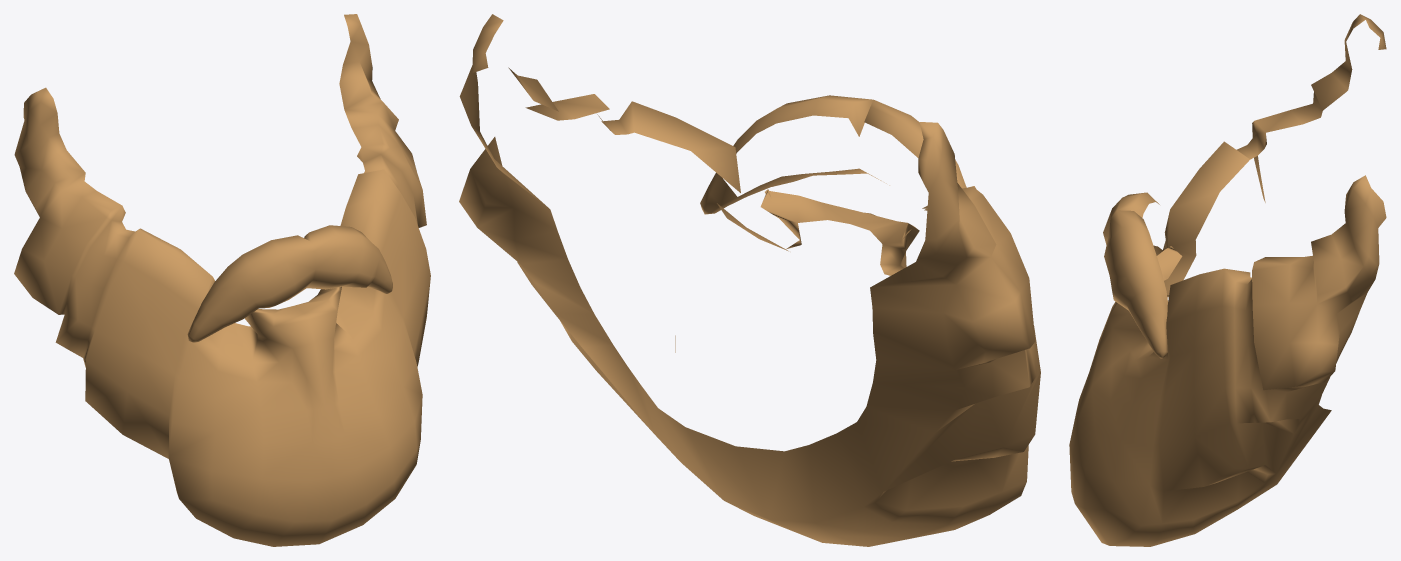
File: beard2.glb
3 renders of one model, left to right at view 1: azimuth 30°, elevation 25°; view 2: azimuth 150°, elevation 25°; view 3: azimuth 270°, elevation 25°, orthographic. The views are drawn at different scales.
Visible parts, largest first — view 1: Wolf3D_Beard; view 2: Wolf3D_Beard; view 3: Wolf3D_Beard.
Boxes of the visible parts, left/top/right/bottom form: Wolf3D_Beard: left=14, top=14, right=430, bottom=546; Wolf3D_Beard: left=459, top=14, right=1040, bottom=546; Wolf3D_Beard: left=1069, top=14, right=1386, bottom=546.
Bounding box in the file's own units: 0.1874 × 0.1802 × 0.1191.
Materials: 1 (1 with a texture image).
